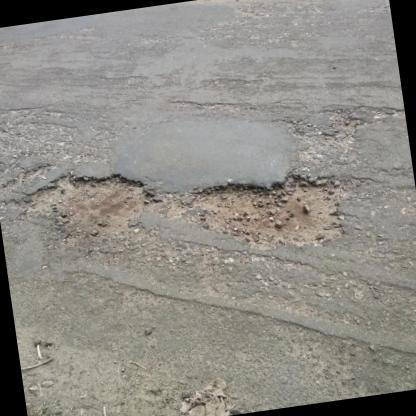pothole: (176, 163, 352, 265), (15, 158, 164, 247)
